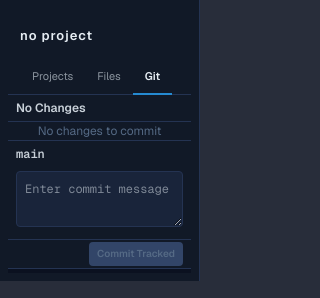
Test: Sidebar › highlights active project row when activeProjectName is set
Click the button "Projects" at (53, 77), box [20,60,85,94]
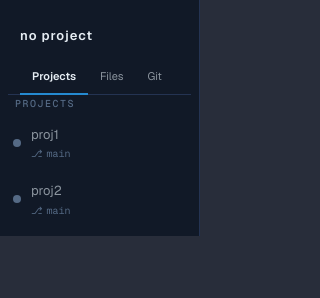
Check: the text "proj1" is shown, box [31,126,59,142]
